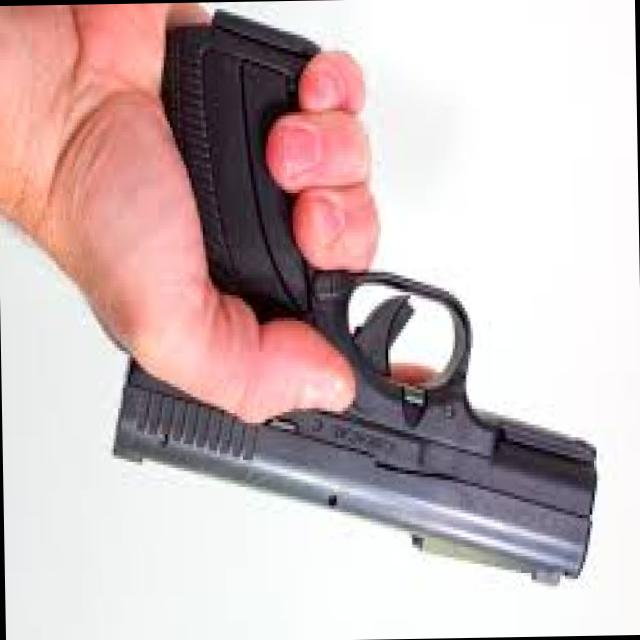Gun: (85, 40, 619, 596)
